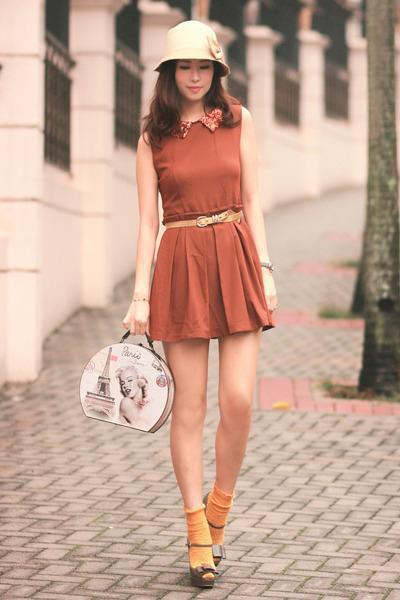bag: (80, 343, 172, 430)
dress: (144, 108, 273, 347)
hat: (168, 21, 222, 59)
shoe: (179, 500, 228, 598)
